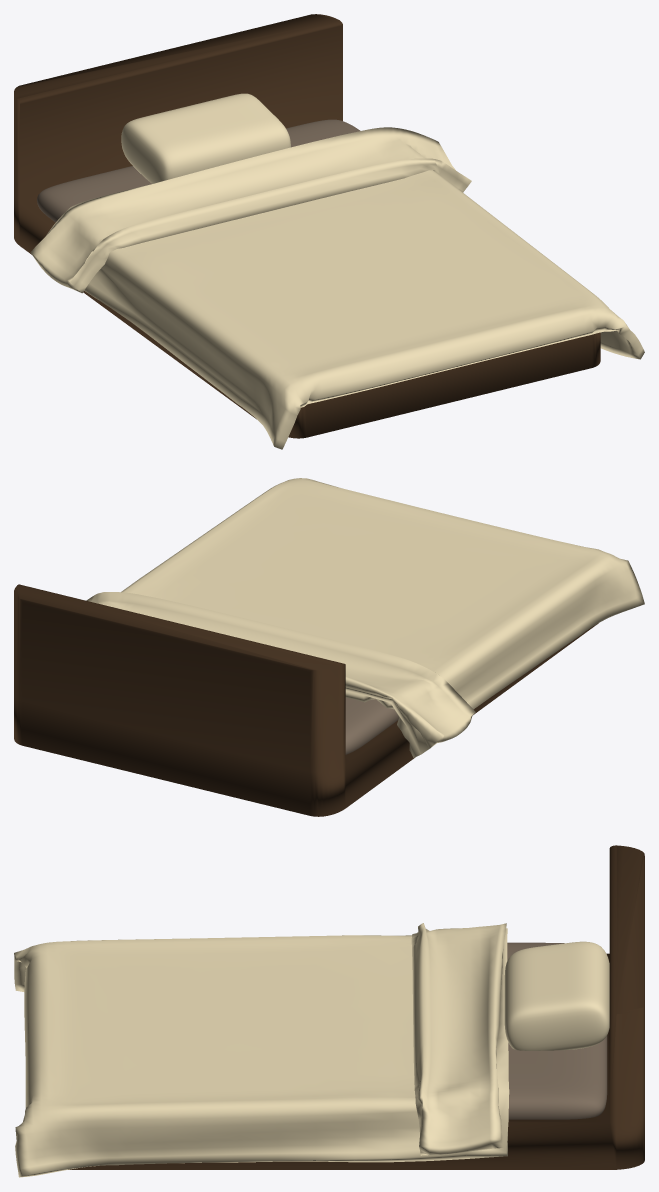
The model's file is bed.fbx.
The picture shows the model from 3 angles, top to bottom: view 1: azimuth 30°, elevation 25°; view 2: azimuth 150°, elevation 25°; view 3: azimuth 270°, elevation 25°; orthographic projection. The views are drawn at different scales.
Visible parts, largest first — view 1: Plane; view 2: Plane; view 3: Plane.
Boxes of the visible parts, x1,y1,x2,y2 form: Plane: (14, 14, 644, 449); Plane: (14, 478, 644, 816); Plane: (14, 845, 644, 1177).
Bounding box in the file's own units: 742 × 251 × 922.
